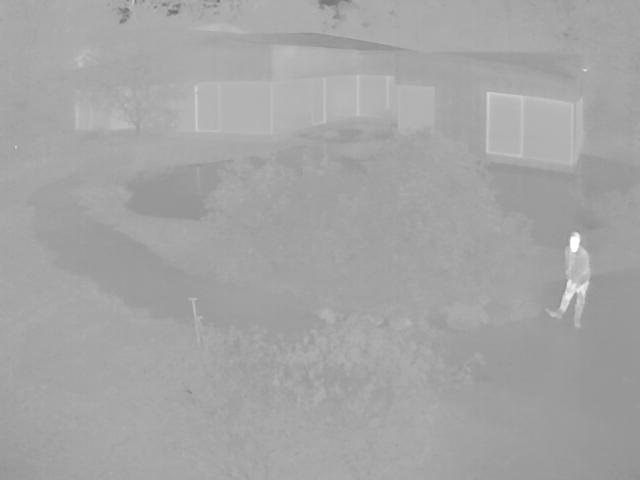person: (555, 230, 594, 332)
